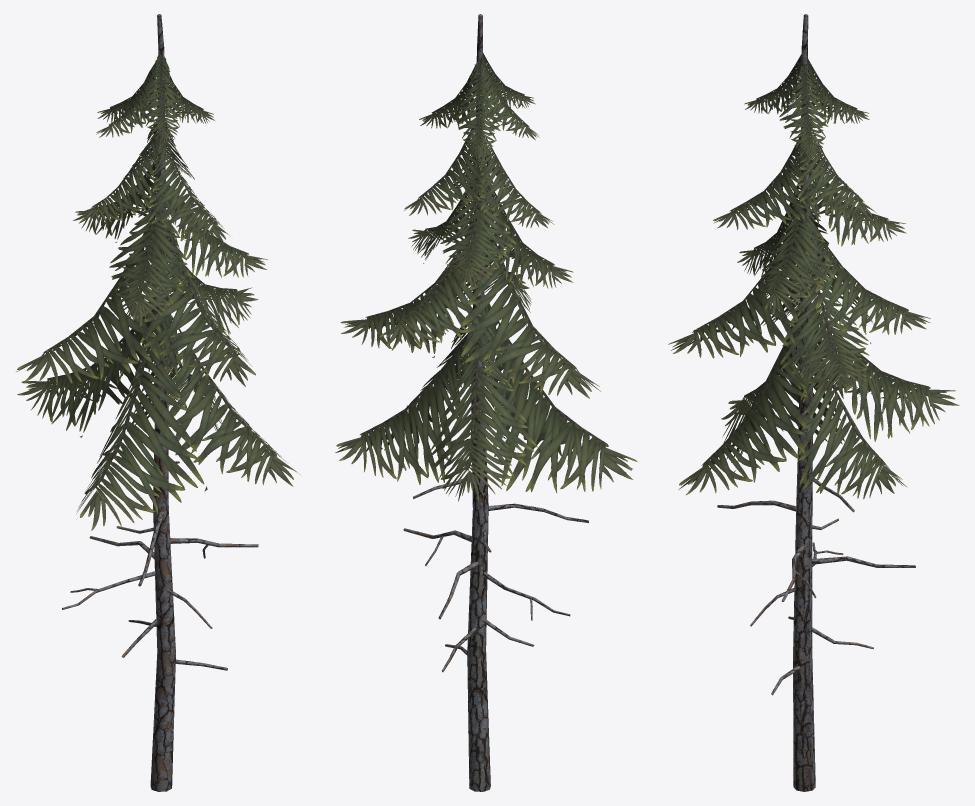
The model's file is tree_pine.fbx.
The picture shows the model from 3 angles, left to right: view 1: azimuth 30°, elevation 25°; view 2: azimuth 150°, elevation 25°; view 3: azimuth 270°, elevation 25°; orthographic projection.
Visible parts, largest first — view 1: tree_pine; view 2: tree_pine; view 3: tree_pine.
Boxes of the visible parts, x1,y1,x2,y2 form: tree_pine: [16, 14, 300, 791]; tree_pine: [335, 14, 637, 791]; tree_pine: [668, 14, 959, 791].
Bounding box in the file's own units: 339 × 1002 × 346.
